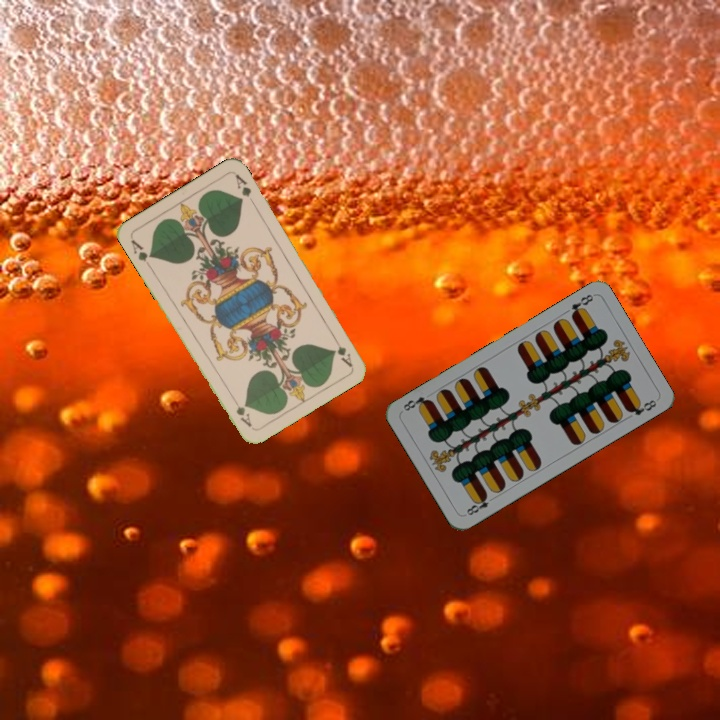E8: (461, 490, 498, 518), (567, 290, 596, 320)
GA: (127, 235, 155, 271), (329, 332, 355, 369)
